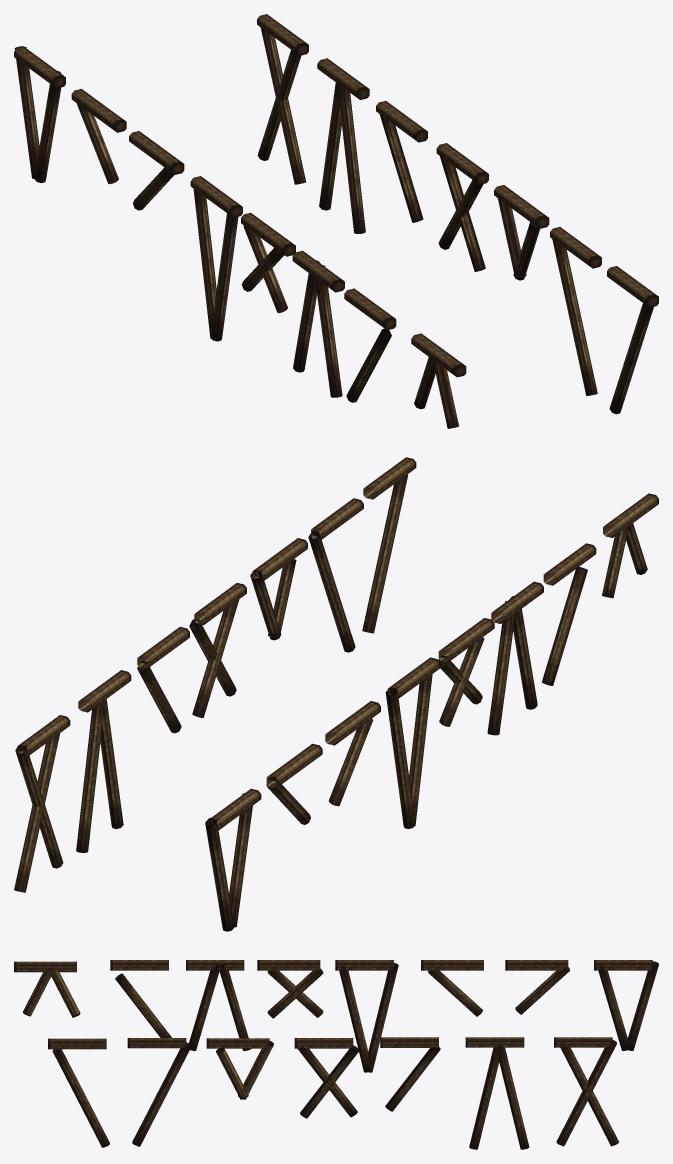
The model's file is EnvMdrMD_Wilderness_B_End_H2_A.FBX.
3 renders of one model, top to bottom at view 1: azimuth 30°, elevation 25°; view 2: azimuth 150°, elevation 25°; view 3: azimuth 270°, elevation 25°, orthographic. The views are drawn at different scales.
Parts seen in each view (by area): view 1: EnvMdrMD_Wilderness_B_End_H4_D, EnvMdrMD_Wilderness_B_End_H4_E, EnvMdrMD_Wilderness_B_End_H4_A, EnvMdrMD_Wilderness_B_End_H3_D, EnvMdrMD_Wilderness_B_End_H3_E, EnvMdrMD_Wilderness_B_End_H3_A, EnvMdrMD_Wilderness_B_End_H4_B, EnvMdrMD_Wilderness_B_End_H2_A, EnvMdrMD_Wilderness_B_End_H2_E, EnvMdrMD_Wilderness_B_End_H2_D, EnvMdrMD_Wilderness_B_End_H4_C, EnvMdrMD_Wilderness_B_End_H3_C (+3 smaller); view 2: EnvMdrMD_Wilderness_B_End_H4_D, EnvMdrMD_Wilderness_B_End_H4_E, EnvMdrMD_Wilderness_B_End_H4_A, EnvMdrMD_Wilderness_B_End_H3_D, EnvMdrMD_Wilderness_B_End_H3_E, EnvMdrMD_Wilderness_B_End_H3_A, EnvMdrMD_Wilderness_B_End_H4_C, EnvMdrMD_Wilderness_B_End_H2_A, EnvMdrMD_Wilderness_B_End_H2_E, EnvMdrMD_Wilderness_B_End_H3_B, EnvMdrMD_Wilderness_B_End_H4_B, EnvMdrMD_Wilderness_B_End_H2_D (+3 smaller); view 3: EnvMdrMD_Wilderness_B_End_H4_A, EnvMdrMD_Wilderness_B_End_H4_D, EnvMdrMD_Wilderness_B_End_H4_E, EnvMdrMD_Wilderness_B_End_H3_E, EnvMdrMD_Wilderness_B_End_H3_A, EnvMdrMD_Wilderness_B_End_H3_D, EnvMdrMD_Wilderness_B_End_H2_A, EnvMdrMD_Wilderness_B_End_H4_C, EnvMdrMD_Wilderness_B_End_H4_B, EnvMdrMD_Wilderness_B_End_H2_E, EnvMdrMD_Wilderness_B_End_H2_D, EnvMdrMD_Wilderness_B_End_H3_B (+3 smaller).
Part boxes in pixels (box(x1,y1,x2,y2)): EnvMdrMD_Wilderness_B_End_H4_D: box(317, 58, 369, 233); EnvMdrMD_Wilderness_B_End_H4_E: box(190, 176, 242, 341); EnvMdrMD_Wilderness_B_End_H4_A: box(257, 14, 308, 184); EnvMdrMD_Wilderness_B_End_H3_D: box(292, 250, 344, 397); EnvMdrMD_Wilderness_B_End_H3_E: box(14, 46, 65, 183); EnvMdrMD_Wilderness_B_End_H3_A: box(436, 143, 488, 271); EnvMdrMD_Wilderness_B_End_H4_B: box(550, 227, 601, 396); EnvMdrMD_Wilderness_B_End_H2_A: box(241, 212, 295, 312); EnvMdrMD_Wilderness_B_End_H2_E: box(494, 185, 549, 280); EnvMdrMD_Wilderness_B_End_H2_D: box(411, 333, 466, 428); EnvMdrMD_Wilderness_B_End_H4_C: box(607, 266, 658, 414); EnvMdrMD_Wilderness_B_End_H3_C: box(376, 101, 427, 222); EnvMdrMD_Wilderness_B_End_H4_D: box(76, 670, 131, 852); EnvMdrMD_Wilderness_B_End_H4_E: box(385, 657, 440, 828); EnvMdrMD_Wilderness_B_End_H4_A: box(14, 715, 70, 892); EnvMdrMD_Wilderness_B_End_H3_D: box(487, 581, 543, 735); EnvMdrMD_Wilderness_B_End_H3_E: box(205, 788, 261, 931); EnvMdrMD_Wilderness_B_End_H3_A: box(189, 583, 246, 717); EnvMdrMD_Wilderness_B_End_H4_C: box(362, 457, 416, 633); EnvMdrMD_Wilderness_B_End_H2_A: box(438, 618, 494, 726); EnvMdrMD_Wilderness_B_End_H2_E: box(250, 538, 307, 640); EnvMdrMD_Wilderness_B_End_H3_B: box(541, 543, 596, 685); EnvMdrMD_Wilderness_B_End_H4_B: box(308, 498, 363, 652); EnvMdrMD_Wilderness_B_End_H2_D: box(602, 493, 658, 598); EnvMdrMD_Wilderness_B_End_H4_A: box(554, 1037, 618, 1146); EnvMdrMD_Wilderness_B_End_H4_D: box(465, 1037, 529, 1149); EnvMdrMD_Wilderness_B_End_H4_E: box(335, 960, 398, 1072); EnvMdrMD_Wilderness_B_End_H3_E: box(594, 960, 658, 1050); EnvMdrMD_Wilderness_B_End_H3_A: box(294, 1038, 359, 1118); EnvMdrMD_Wilderness_B_End_H3_D: box(186, 960, 251, 1050); EnvMdrMD_Wilderness_B_End_H2_A: box(257, 960, 323, 1018); EnvMdrMD_Wilderness_B_End_H4_C: box(48, 1038, 109, 1147); EnvMdrMD_Wilderness_B_End_H4_B: box(127, 1038, 191, 1146); EnvMdrMD_Wilderness_B_End_H2_E: box(206, 1038, 273, 1099); EnvMdrMD_Wilderness_B_End_H2_D: box(14, 961, 80, 1017); EnvMdrMD_Wilderness_B_End_H3_B: box(110, 960, 171, 1037).
Bounding box in the file's own units: 670 × 413 × 2202.
Materials: 1 (1 with a texture image).
